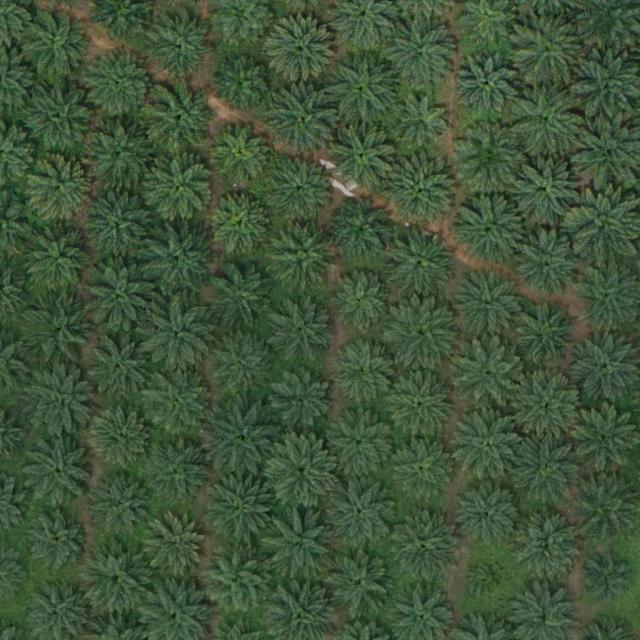Healthy: (85, 50, 156, 121), (387, 156, 458, 227), (515, 372, 586, 443), (454, 410, 525, 481), (206, 330, 277, 401), (201, 545, 272, 616), (19, 9, 89, 80), (26, 82, 96, 153), (27, 154, 97, 225), (83, 120, 153, 191), (87, 187, 157, 258), (147, 83, 217, 154), (145, 153, 215, 224), (268, 16, 338, 87), (266, 155, 336, 226), (267, 220, 337, 291), (456, 193, 527, 263), (513, 15, 583, 86), (514, 85, 584, 156), (570, 190, 640, 261), (516, 229, 586, 300), (513, 510, 583, 581), (454, 269, 524, 340), (456, 342, 527, 412), (385, 229, 456, 299), (389, 371, 459, 442), (391, 512, 461, 583), (327, 410, 397, 481), (330, 479, 400, 550), (266, 297, 336, 368), (266, 507, 337, 577), (208, 260, 278, 331), (209, 405, 280, 475), (145, 301, 215, 372), (146, 367, 216, 438), (84, 331, 154, 402), (23, 437, 93, 508), (22, 507, 92, 578), (80, 544, 150, 615), (326, 547, 396, 618), (267, 87, 337, 157), (328, 53, 398, 123), (329, 119, 399, 189), (386, 20, 456, 90), (456, 122, 526, 192), (513, 152, 583, 222), (512, 432, 582, 502), (389, 300, 459, 370), (268, 437, 338, 507), (205, 475, 275, 545), (144, 225, 214, 295), (144, 438, 214, 508), (86, 262, 156, 332), (24, 227, 94, 297), (26, 299, 96, 369), (23, 365, 93, 435), (392, 94, 455, 157), (330, 272, 393, 335), (215, 51, 277, 114), (330, 198, 392, 261), (455, 52, 517, 115), (519, 303, 581, 366), (459, 483, 522, 545), (392, 440, 455, 502), (146, 513, 208, 576), (89, 408, 151, 471), (92, 474, 154, 537), (154, 14, 216, 76), (214, 123, 276, 185), (211, 193, 273, 255), (334, 344, 396, 406), (273, 371, 335, 433), (587, 559, 634, 607)
Small: (472, 561, 511, 600)
